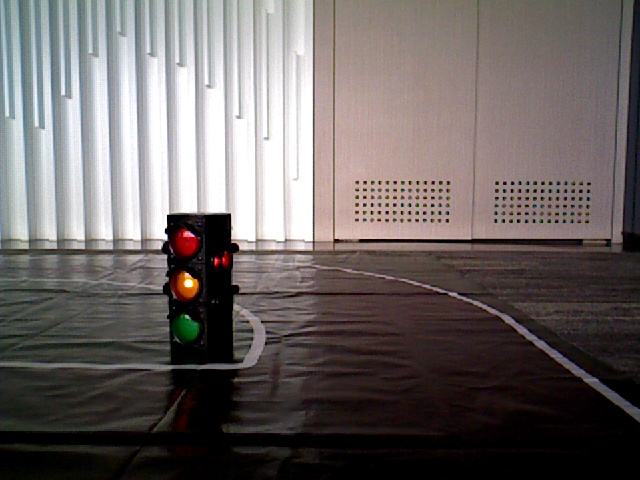yellow: (168, 216, 210, 350)
